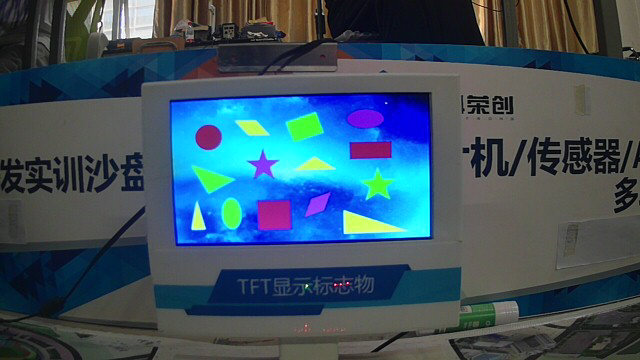graph: (167, 90, 438, 249)
